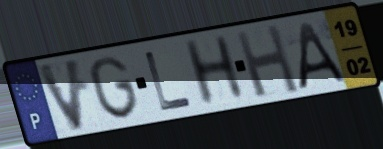A: (296, 19, 349, 92)
G: (87, 53, 142, 121)
H: (232, 22, 303, 100), (179, 32, 249, 110)
L: (142, 48, 196, 113)
V: (33, 55, 89, 135)
